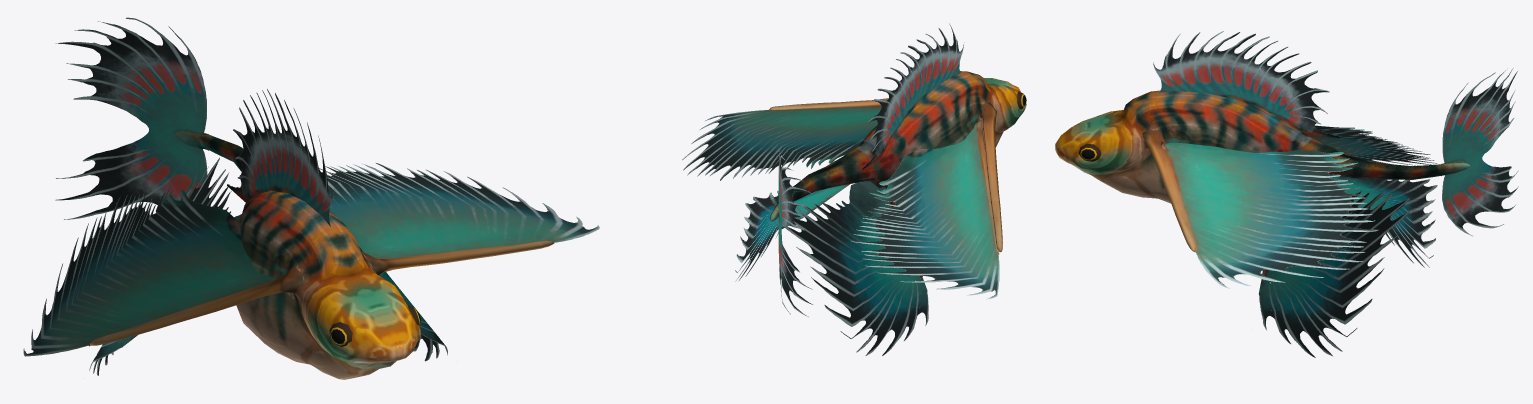
Rendered from fish_000024.obj.
3 views of the same model, side by side, from view 1: azimuth 30°, elevation 25°; view 2: azimuth 150°, elevation 25°; view 3: azimuth 270°, elevation 25° (orthographic). The views are drawn at different scales.
Parts seen in each view (by area): view 1: flyingFish_low_StingrayPBS1_0; view 2: flyingFish_low_StingrayPBS1_0; view 3: flyingFish_low_StingrayPBS1_0.
Part boxes in pixels (x1,y1,x2,y2): flyingFish_low_StingrayPBS1_0: (23,17,599,379); flyingFish_low_StingrayPBS1_0: (682,23,1026,355); flyingFish_low_StingrayPBS1_0: (1055,31,1518,357).
Bounding box in the file's own units: 17.6 × 13.44 × 18.49.
1 material, 1 textured.
